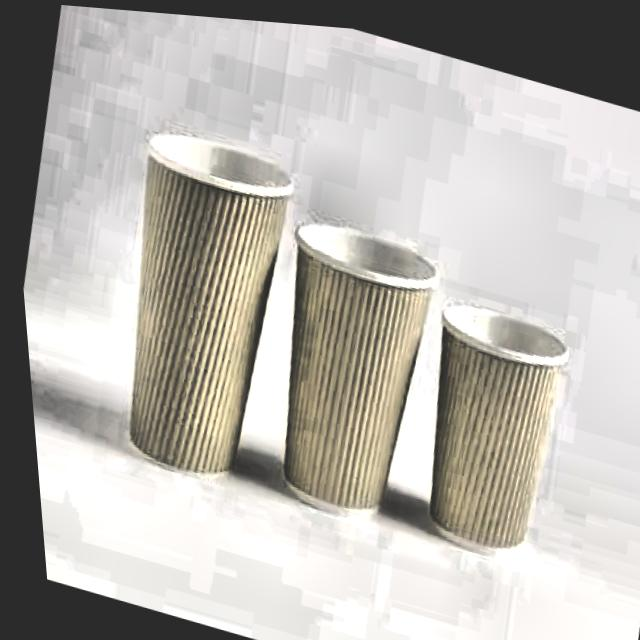Cup: (73, 101, 316, 501), (234, 202, 455, 540), (387, 280, 587, 576)
